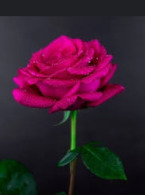RedRose: (12, 31, 131, 123)
